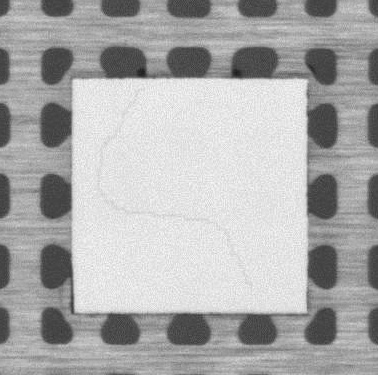DIE_CRACK: (98, 88, 254, 288)
